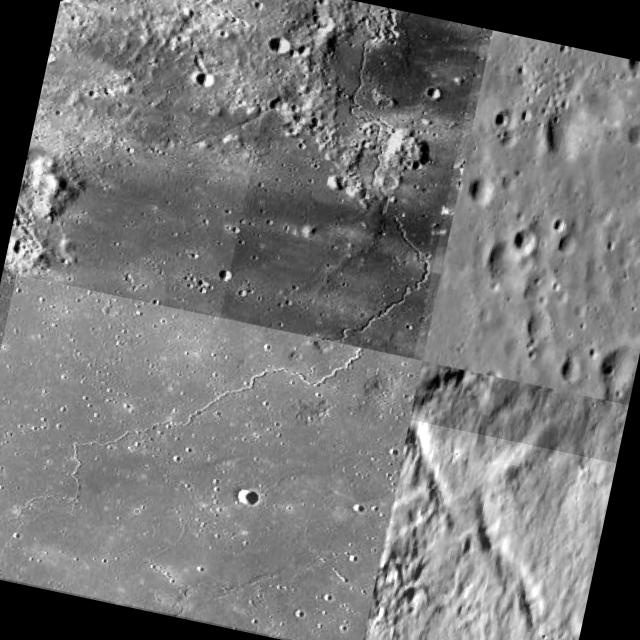crater: (0, 274, 423, 640), (221, 0, 485, 357), (363, 420, 617, 640), (446, 30, 640, 299), (0, 481, 83, 591)
